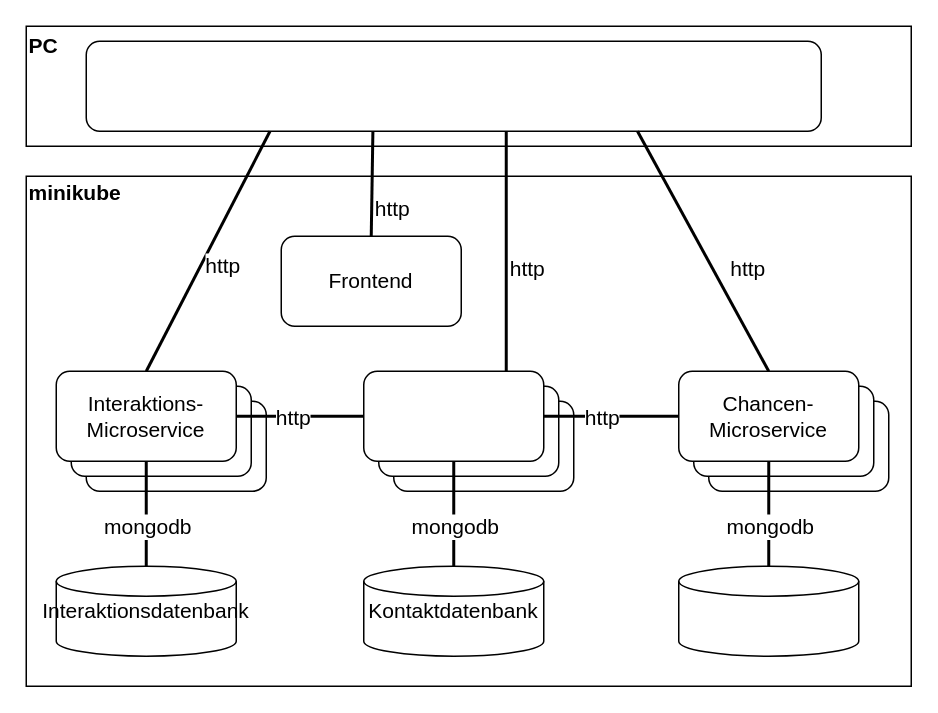
This 938x713 diagram has some shape labels left out. The shapes that lost their labels are listed below. From the top down, each one's centre as x and y in pixels, then its label:
pixel 453 85: Webbrowser
pixel 453 415: Kontakt-Microservice
pixel 768 610: Chancendatenbank
